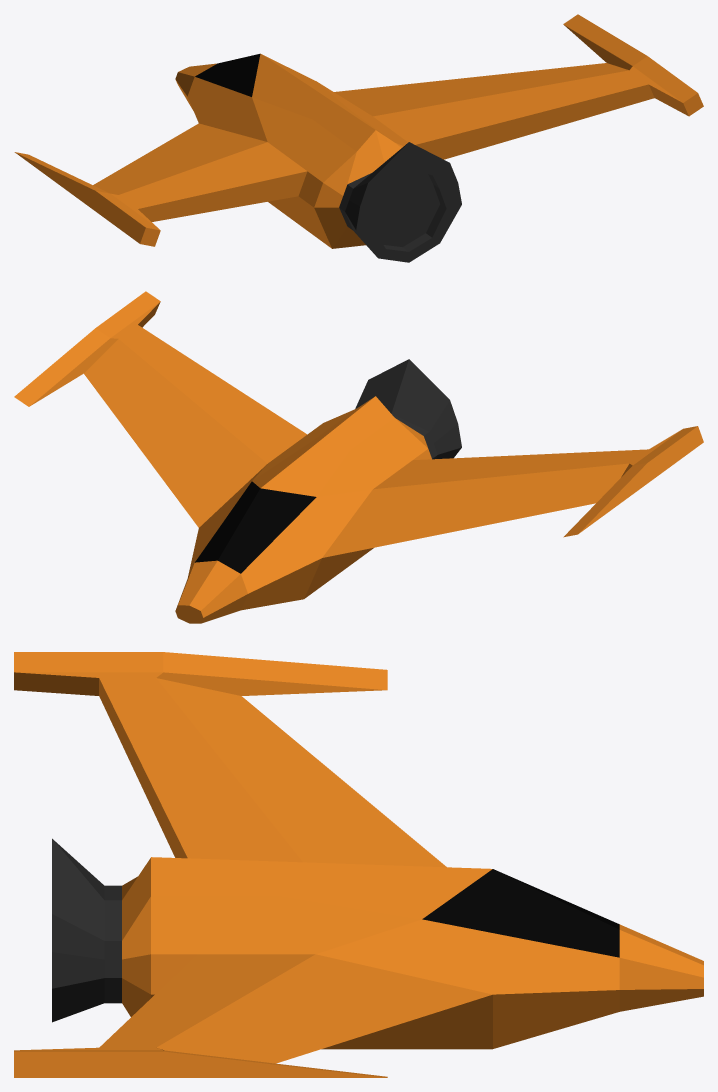
Rendered from S-Flyer.fbx.
3 views of the same model, one above another, from view 1: azimuth 30°, elevation 25°; view 2: azimuth 150°, elevation 25°; view 3: azimuth 270°, elevation 25° (orthographic). The views are drawn at different scales.
Visible parts, largest first — view 1: Cylinder.001; view 2: Cylinder.001; view 3: Cylinder.001.
Boxes of the visible parts, box(x1,y1,x2,y2) form: Cylinder.001: box(14, 14, 703, 262); Cylinder.001: box(14, 291, 703, 623); Cylinder.001: box(14, 652, 703, 1077).
Size of the model in its own units: 229 by 49.1 by 163.
